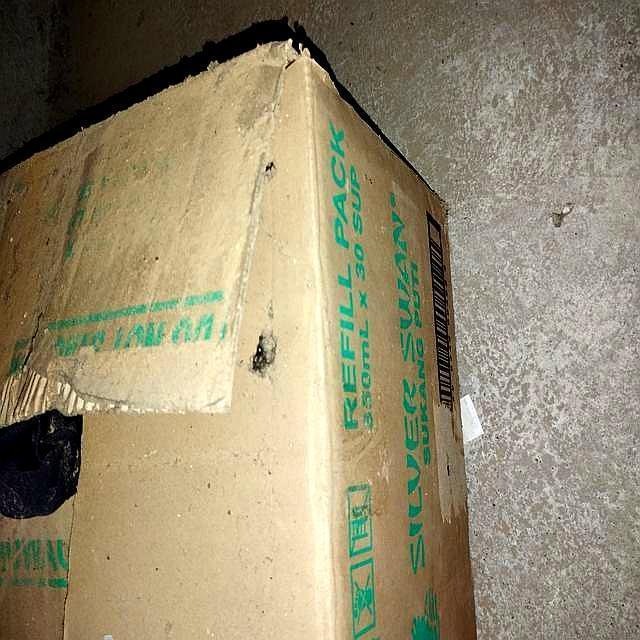Biodegradable: (1, 45, 481, 640)
